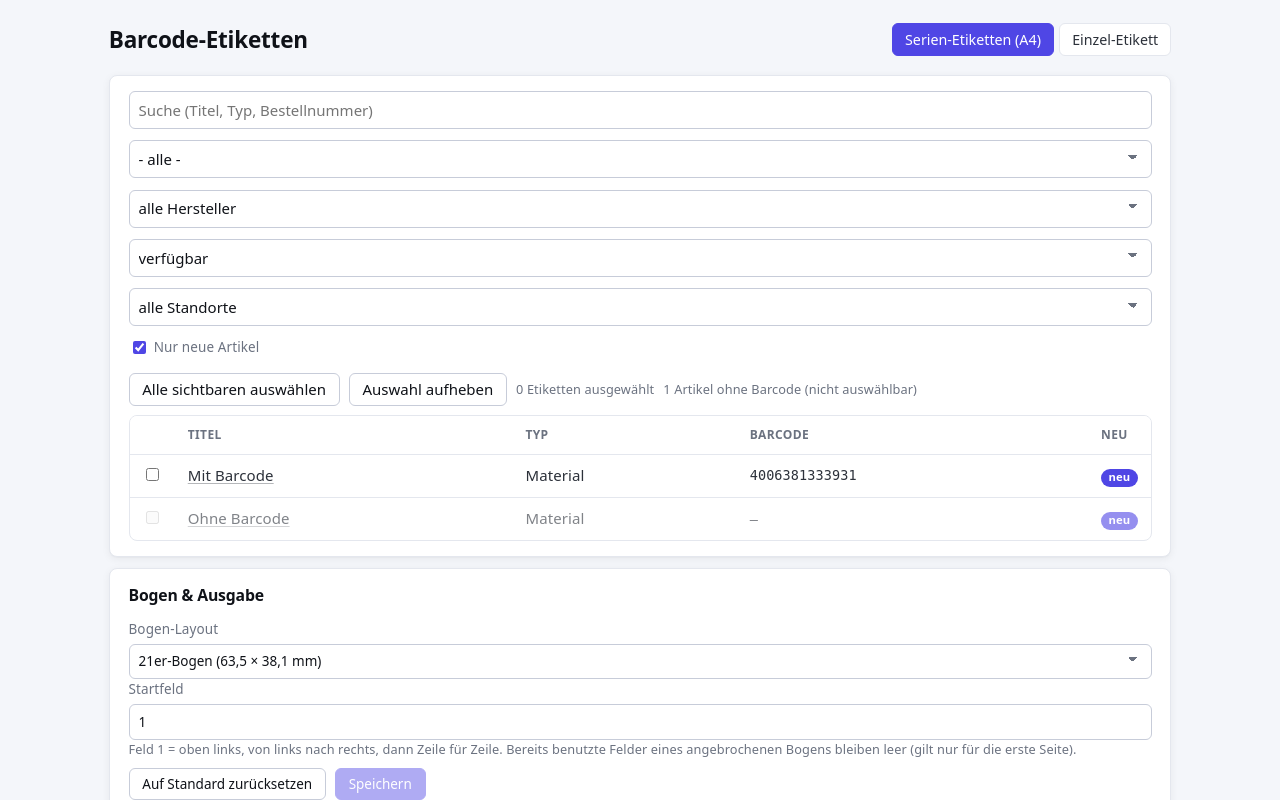
it: BarcodeErzeugenView — Serien-Etiketten › laesst Artikel ohne Barcode nicht auswaehlen
Expected: the checkbox named "Mit Barcode" is enabled, [146,468,159,481]
Expected: the checkbox named "Ohne Barcode" is disabled, [146,511,159,524]
Click the button "Alle sichtbaren auswählen" at {"x": 234, "y": 389}, box [128,372,340,406]
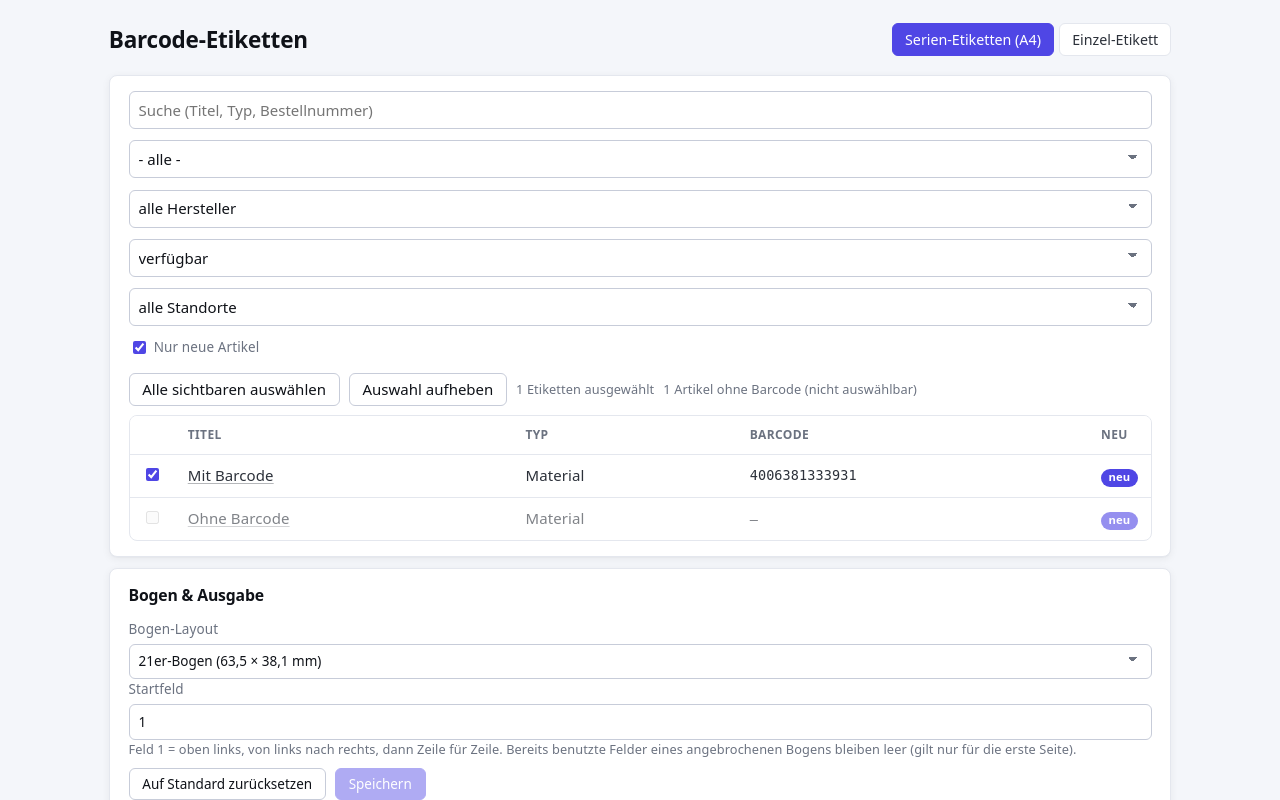
Expected: the text "1 Artikel ohne Barcode" is shown, [663,380,917,398]
Now the text "1 Etiketten ausgewählt" is shown, box [516,380,654,399]
